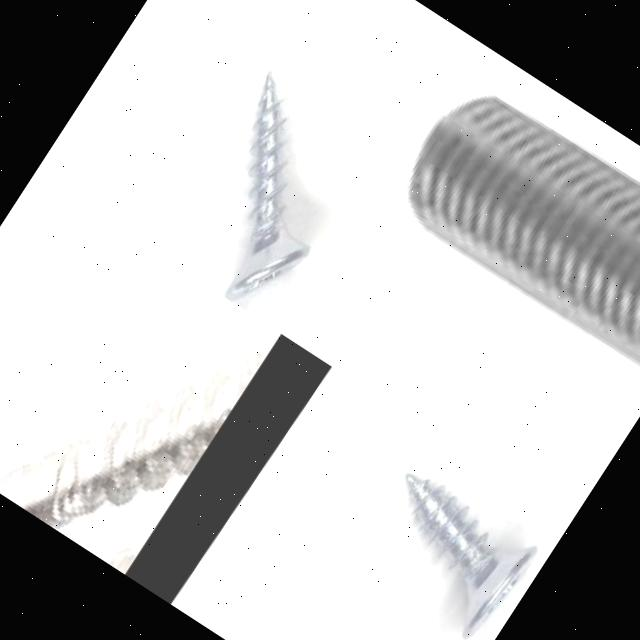Screw: (406, 90, 640, 364), (0, 347, 269, 531), (404, 474, 536, 640), (223, 72, 309, 302)
